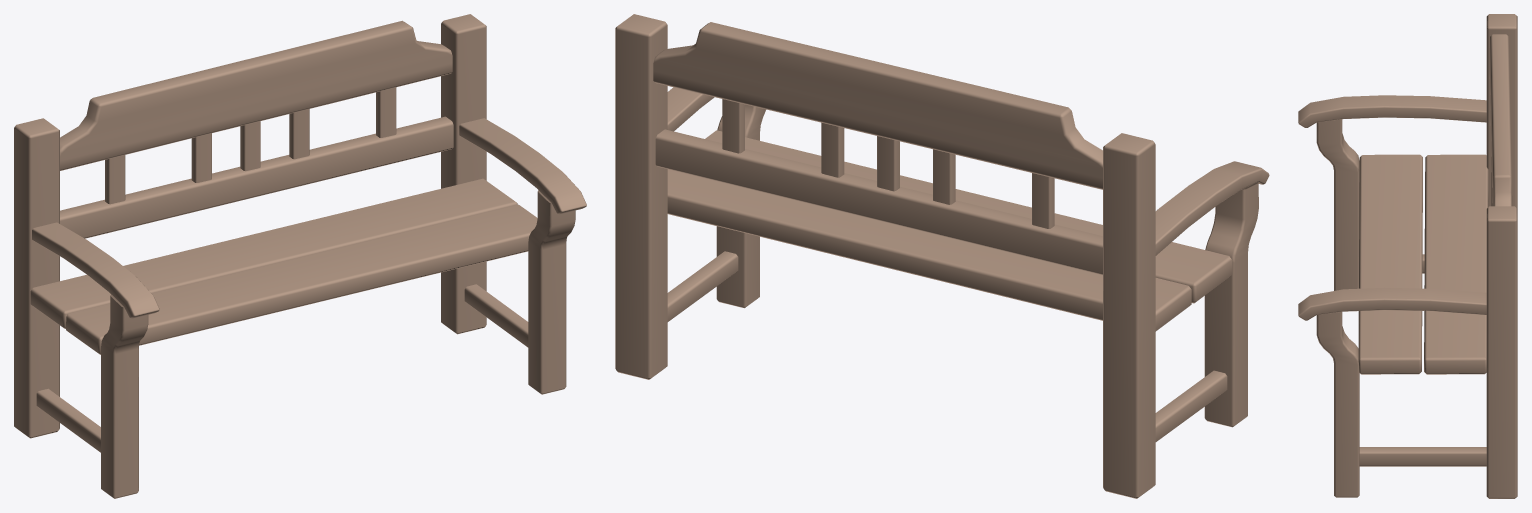
File: Chair_Bench_1.glb
3 renders of one model, left to right at view 1: azimuth 30°, elevation 25°; view 2: azimuth 150°, elevation 25°; view 3: azimuth 270°, elevation 25°, orthographic. The views are drawn at different scales.
Parts seen in each view (by area): view 1: Bench_1; view 2: Bench_1; view 3: Bench_1.
Part boxes in pixels (x1,y1,x2,y2): Bench_1: (14,14,586,498); Bench_1: (615,14,1269,498); Bench_1: (1298,14,1517,498).
Size of the model in its own units: 1.44 by 0.9471 by 0.6432.
Materials: 1 (1 with a texture image).
